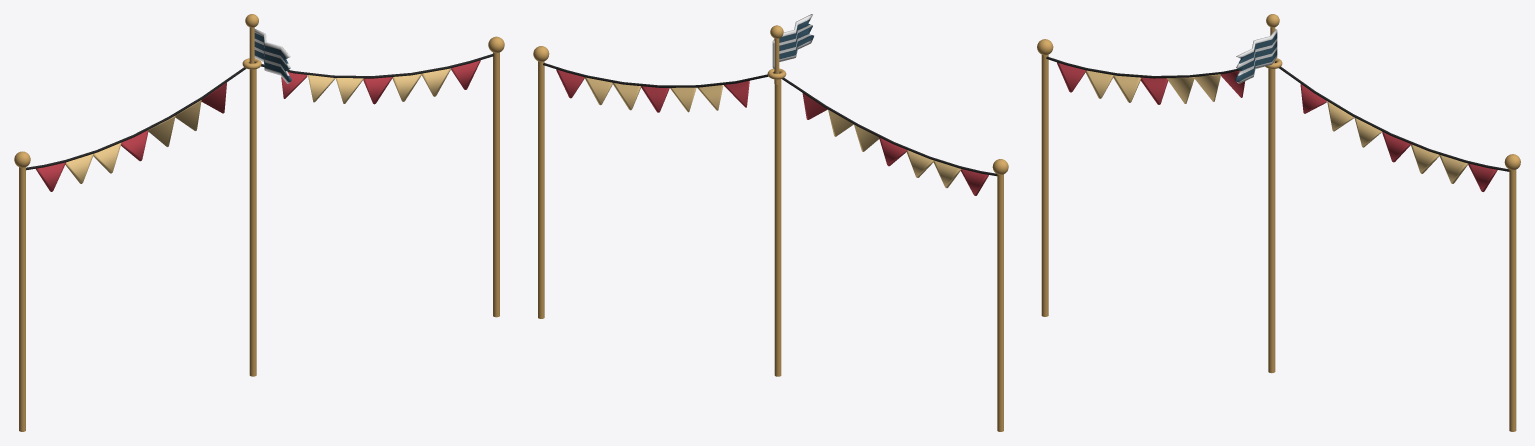
Rendered from flags2 (1).fbx.
The picture shows the model from 3 angles, left to right: view 1: azimuth 30°, elevation 25°; view 2: azimuth 150°, elevation 25°; view 3: azimuth 330°, elevation 25°; orthographic projection. The views are drawn at different scales.
Visible parts, largest first — view 1: 圆柱_1_5.003, 圆柱_1_2.001, 圆柱_1_5.002, 平面_2_2.001, 扫描_4.001, 扫描.001, 挤压_2_6.001; view 2: 圆柱_1_5.003, 圆柱_1_2.001, 圆柱_1_5.002, 平面_2_2.001, 扫描_4.001, 扫描.001; view 3: 圆柱_1_5.003, 圆柱_1_5.002, 圆柱_1_2.001, 平面_2_2.001, 扫描.001, 扫描_4.001, 挤压_2_3.001.
Part boxes in pixels (bbox=[...]): 圆柱_1_5.003: bbox=[249, 69, 256, 376]; 圆柱_1_2.001: bbox=[19, 167, 25, 431]; 圆柱_1_5.002: bbox=[493, 52, 499, 317]; 平面_2_2.001: bbox=[254, 29, 291, 83]; 扫描_4.001: bbox=[26, 61, 255, 170]; 扫描.001: bbox=[249, 54, 493, 78]; 挤压_2_6.001: bbox=[36, 162, 65, 191]; 圆柱_1_5.003: bbox=[774, 79, 781, 376]; 圆柱_1_2.001: bbox=[997, 174, 1003, 431]; 圆柱_1_5.002: bbox=[538, 61, 544, 318]; 平面_2_2.001: bbox=[772, 14, 813, 68]; 扫描_4.001: bbox=[773, 71, 997, 176]; 扫描.001: bbox=[543, 63, 768, 87]; 圆柱_1_5.003: bbox=[1268, 68, 1275, 373]; 圆柱_1_5.002: bbox=[1509, 169, 1516, 431]; 圆柱_1_2.001: bbox=[1041, 54, 1048, 316]; 平面_2_2.001: bbox=[1235, 29, 1277, 83]; 扫描.001: bbox=[1279, 67, 1509, 171]; 扫描_4.001: bbox=[1046, 56, 1276, 78]; 挤压_2_3.001: bbox=[1140, 77, 1167, 104].
Size of the model in its own units: 648 by 99.57 by 457.
